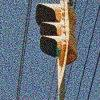traffic lights: (36, 3, 78, 67)
